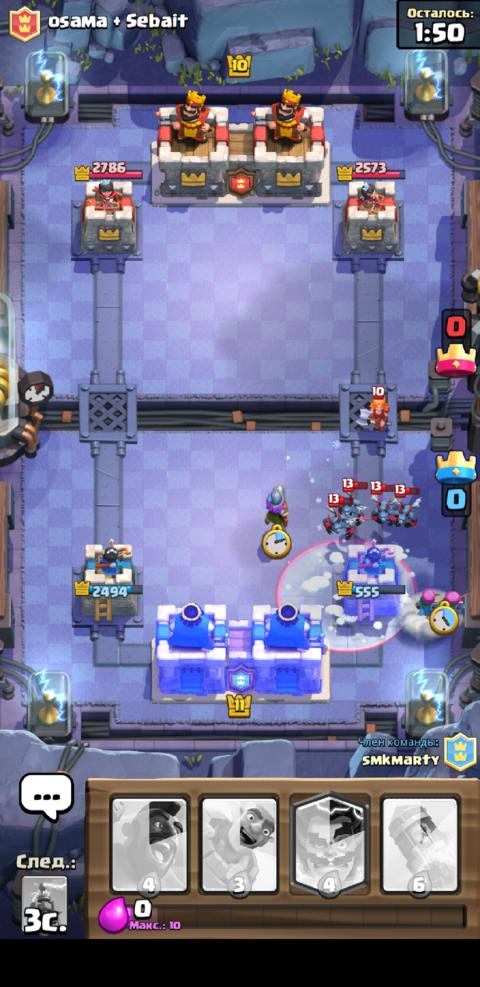EArcher: (414, 587, 439, 617), (439, 590, 466, 616)
EGolem: (261, 482, 288, 532)
OBeserker: (337, 476, 368, 526), (320, 491, 352, 536), (392, 483, 423, 529), (369, 480, 392, 525)
OEx: (354, 383, 390, 433)
